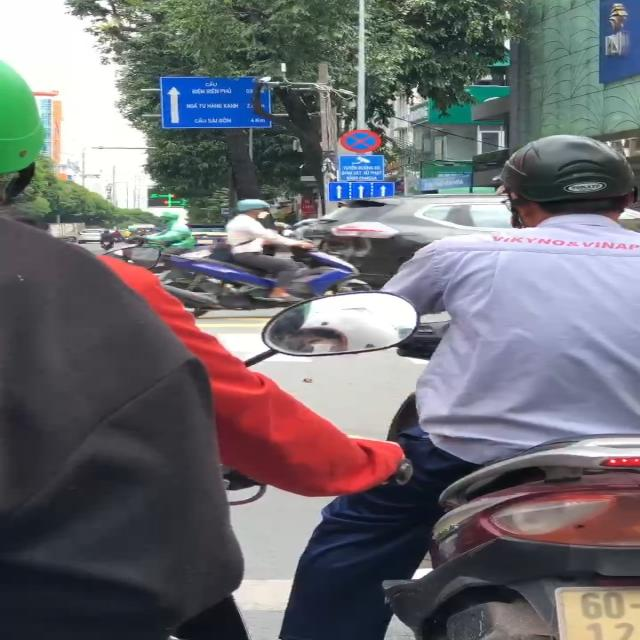Bien bao cam dung xe va do xe: (332, 126, 385, 154)
